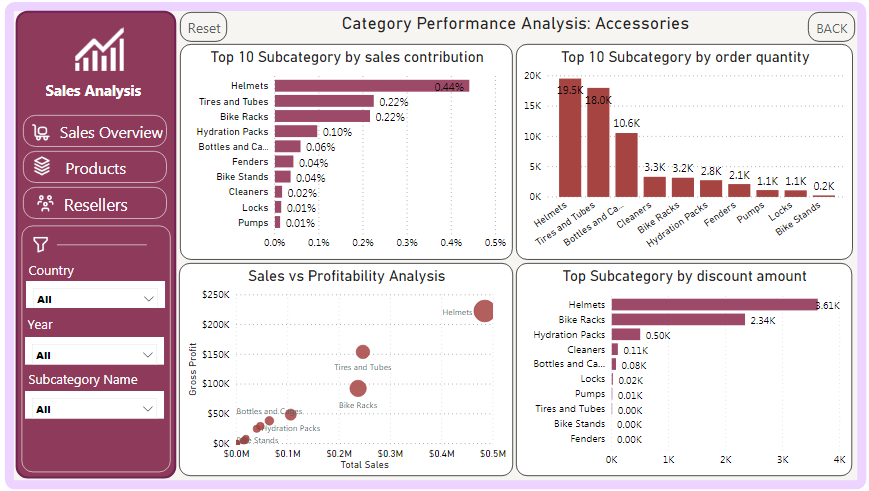

Layout of this report page (visuals, bound fields, positions):
{"tool":"powerbi","page":{"name":"SubcategoryDetails","canvas":[1280,720],"ordinal":2},"visuals":[{"type":"basicShape","title":"Shape","box":[8.7,1.4,1270.8,718.6],"z":0},{"type":"basicShape","title":"Shape","box":[34.7,14.5,237.1,689.6],"z":1000},{"type":"actionButton","box":[47.7,172,208.2,46.3],"z":2000},{"type":"actionButton","box":[47.7,224.1,208.2,46.3],"z":3000},{"type":"actionButton","box":[47.7,276.1,208.2,46.3],"z":4000},{"type":"basicShape","box":[43.4,328.2,219.8,364.3],"z":5000},{"type":"slicer","fields":{"Values":["DimSalesTerritory.کشور"]},"box":[52.2,411.9,201,39],"z":7000},{"type":"slicer","fields":{"Values":["DimDate.Date.Variation.Date Hierarchy.Year"]},"box":[50.9,493.7,201,40.5],"z":9000},{"type":"textbox","box":[49.4,457.5,138.8,34.7],"z":12000},{"type":"textbox","box":[50.7,378.7,138.8,34.7],"z":13000},{"type":"basicShape","box":[86.7,339.8,150.4,40.5],"z":14000},{"type":"textbox","box":[75.2,117.1,161.9,39],"z":15000},{"type":"image","box":[49.2,339.8,47.7,37.6],"z":16000},{"type":"image","box":[95.4,37.6,118.6,79.5],"z":17000},{"type":"image","box":[52,225.5,46.3,40.5],"z":18000},{"type":"image","box":[52,280.5,56.4,37.6],"z":19000},{"type":"image","box":[53.5,177.8,40.5,37.6],"z":20000},{"type":"actionButton","box":[1182.7,23,68,43],"z":21000},{"type":"card","fields":{"Values":["Measurs.Title_Drillthrough"]},"box":[391.8,11.6,735.9,53.5],"z":22000},{"type":"clusteredBarChart","title":"Top 10 Subcategory by profit contribution","fields":{"Category":["DimProductSubcategory.EnglishProductSubcategoryName"],"Y":["Measurs.Profit Contribution"]},"box":[757.6,69.4,490.1,284.8],"z":23000},{"type":"lineChart","title":"Monthly Order Quantity","fields":{"Category":["DimDate.Year_Month"],"Y":["Measurs.Order Quantity"]},"box":[757.6,358.6,490.1,336.9],"z":24000},{"type":"columnChart","title":"Top 10 Subcategory by order quantity","fields":{"Category":["DimProductSubcategory.EnglishProductSubcategoryName"],"Y":["Measurs.Order Quantity"]},"box":[273.3,358.6,481.4,336.9],"z":25000},{"type":"barChart","title":"Top 10 Subcategory by sales contribution","fields":{"Category":["DimProductSubcategory.EnglishProductSubcategoryName"],"Y":["Measurs.Product Sales Contribution %"]},"box":[273.3,69.4,480,284.8],"z":26000},{"type":"actionButton","box":[274.7,23.1,68,43.4],"z":27000}]}

Visuals, with their boxes in screenshot pixels (x1, y1, x2, y2), scaled from the page's 1280x720 canvas onto the 869x491 screenshot:
"Shape" basicShape: [6,1,868,490]
"Shape" basicShape: [24,10,185,480]
actionButton: [32,117,174,149]
actionButton: [32,153,174,184]
actionButton: [32,188,174,220]
basicShape: [29,224,179,472]
slicer - DimSalesTerritory.کشور: [35,281,172,307]
slicer - DimDate.Date.Variation.Date Hierarchy.Year: [35,337,171,364]
textbox: [34,312,128,336]
textbox: [34,258,129,282]
basicShape: [59,232,161,259]
textbox: [51,80,161,106]
image: [33,232,66,257]
image: [65,26,145,80]
image: [35,154,67,181]
image: [35,191,74,217]
image: [36,121,64,147]
actionButton: [803,16,849,45]
card - Measurs.Title_Drillthrough: [266,8,766,44]
"Top 10 Subcategory by profit contribution" clusteredBarChart: [514,47,847,242]
"Monthly Order Quantity" lineChart: [514,245,847,474]
"Top 10 Subcategory by order quantity" columnChart: [186,245,512,474]
"Top 10 Subcategory by sales contribution" barChart: [186,47,511,242]
actionButton: [186,16,233,45]
